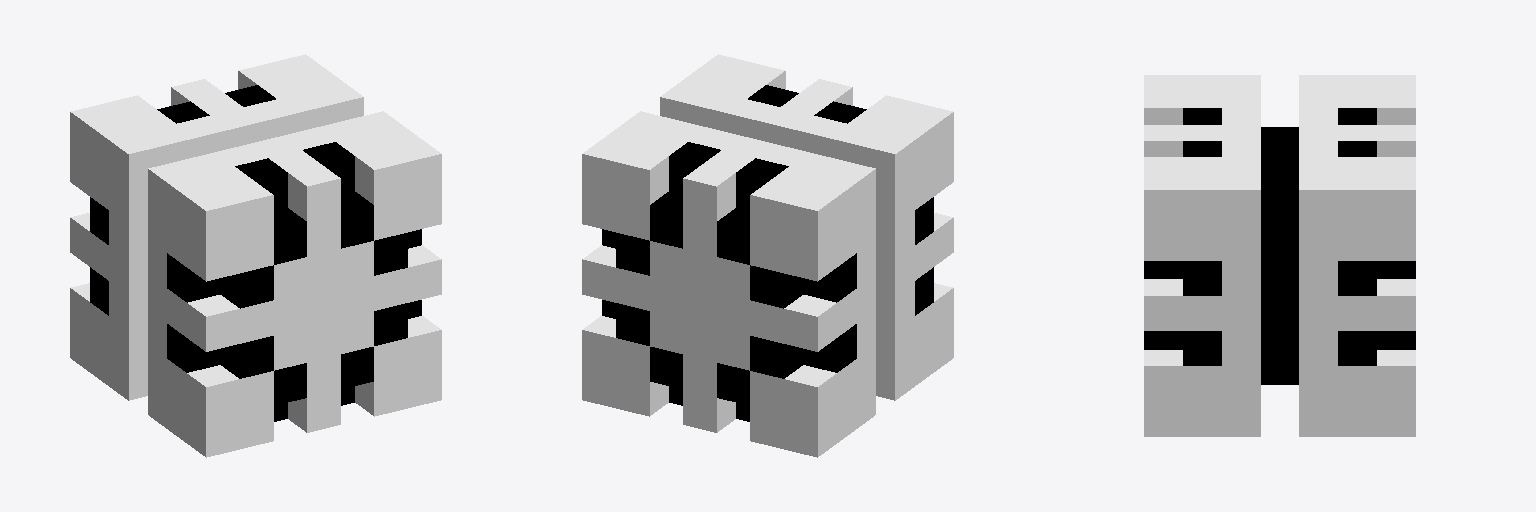
The picture shows the model from 3 angles: view 1: azimuth 30°, elevation 25°; view 2: azimuth 150°, elevation 25°; view 3: azimuth 270°, elevation 25°; orthographic projection.
Bounding box in the file's own units: 7 × 7 × 7.
1 materials, 1 textured.